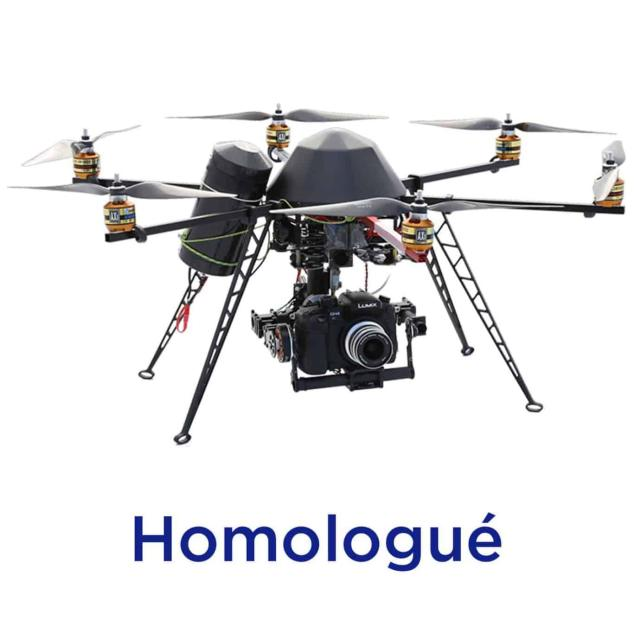drone: (5, 87, 640, 462)
